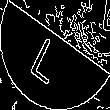L_NE: (34, 26, 76, 84)
